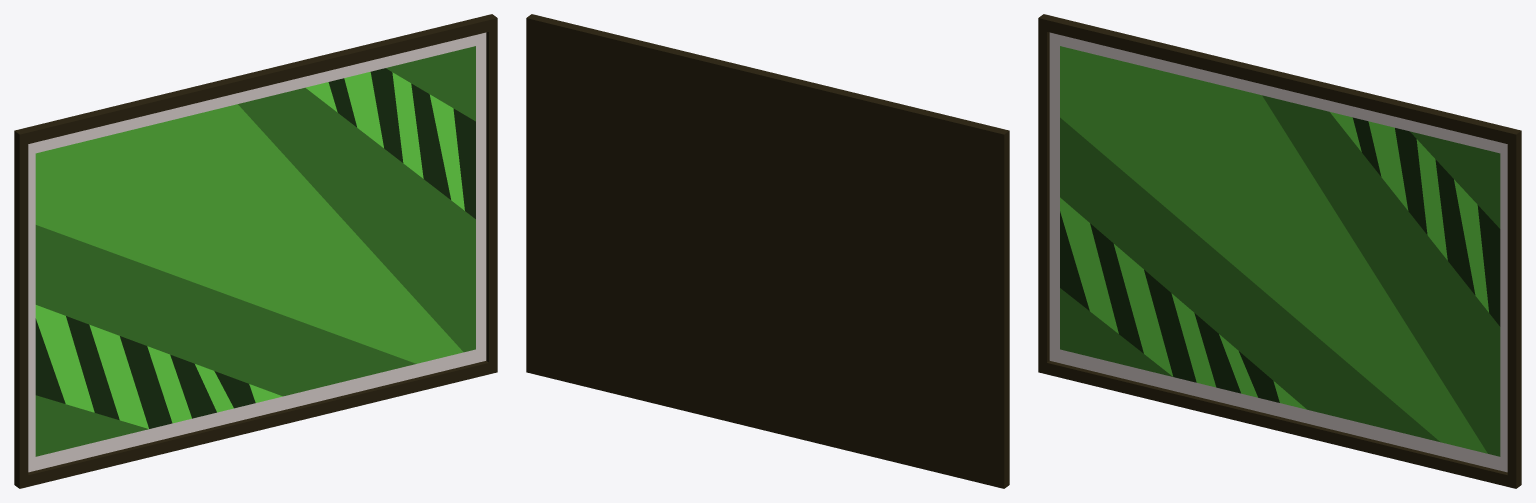
The model's file is Prop_Paint_01.fbx.
3 views of the same model, side by side, from view 1: azimuth 30°, elevation 25°; view 2: azimuth 150°, elevation 25°; view 3: azimuth 330°, elevation 25° (orthographic).
Parts seen in each view (by area): view 1: Prop_Paint_01; view 2: Prop_Paint_01; view 3: Prop_Paint_01.
Part boxes in pixels (x1=…): Prop_Paint_01: x1=14, y1=14, x2=497, y2=488; Prop_Paint_01: x1=526, y1=14, x2=1009, y2=488; Prop_Paint_01: x1=1038, y1=14, x2=1521, y2=488.
Size of the model in its own units: 136 by 96.05 by 2.7.
